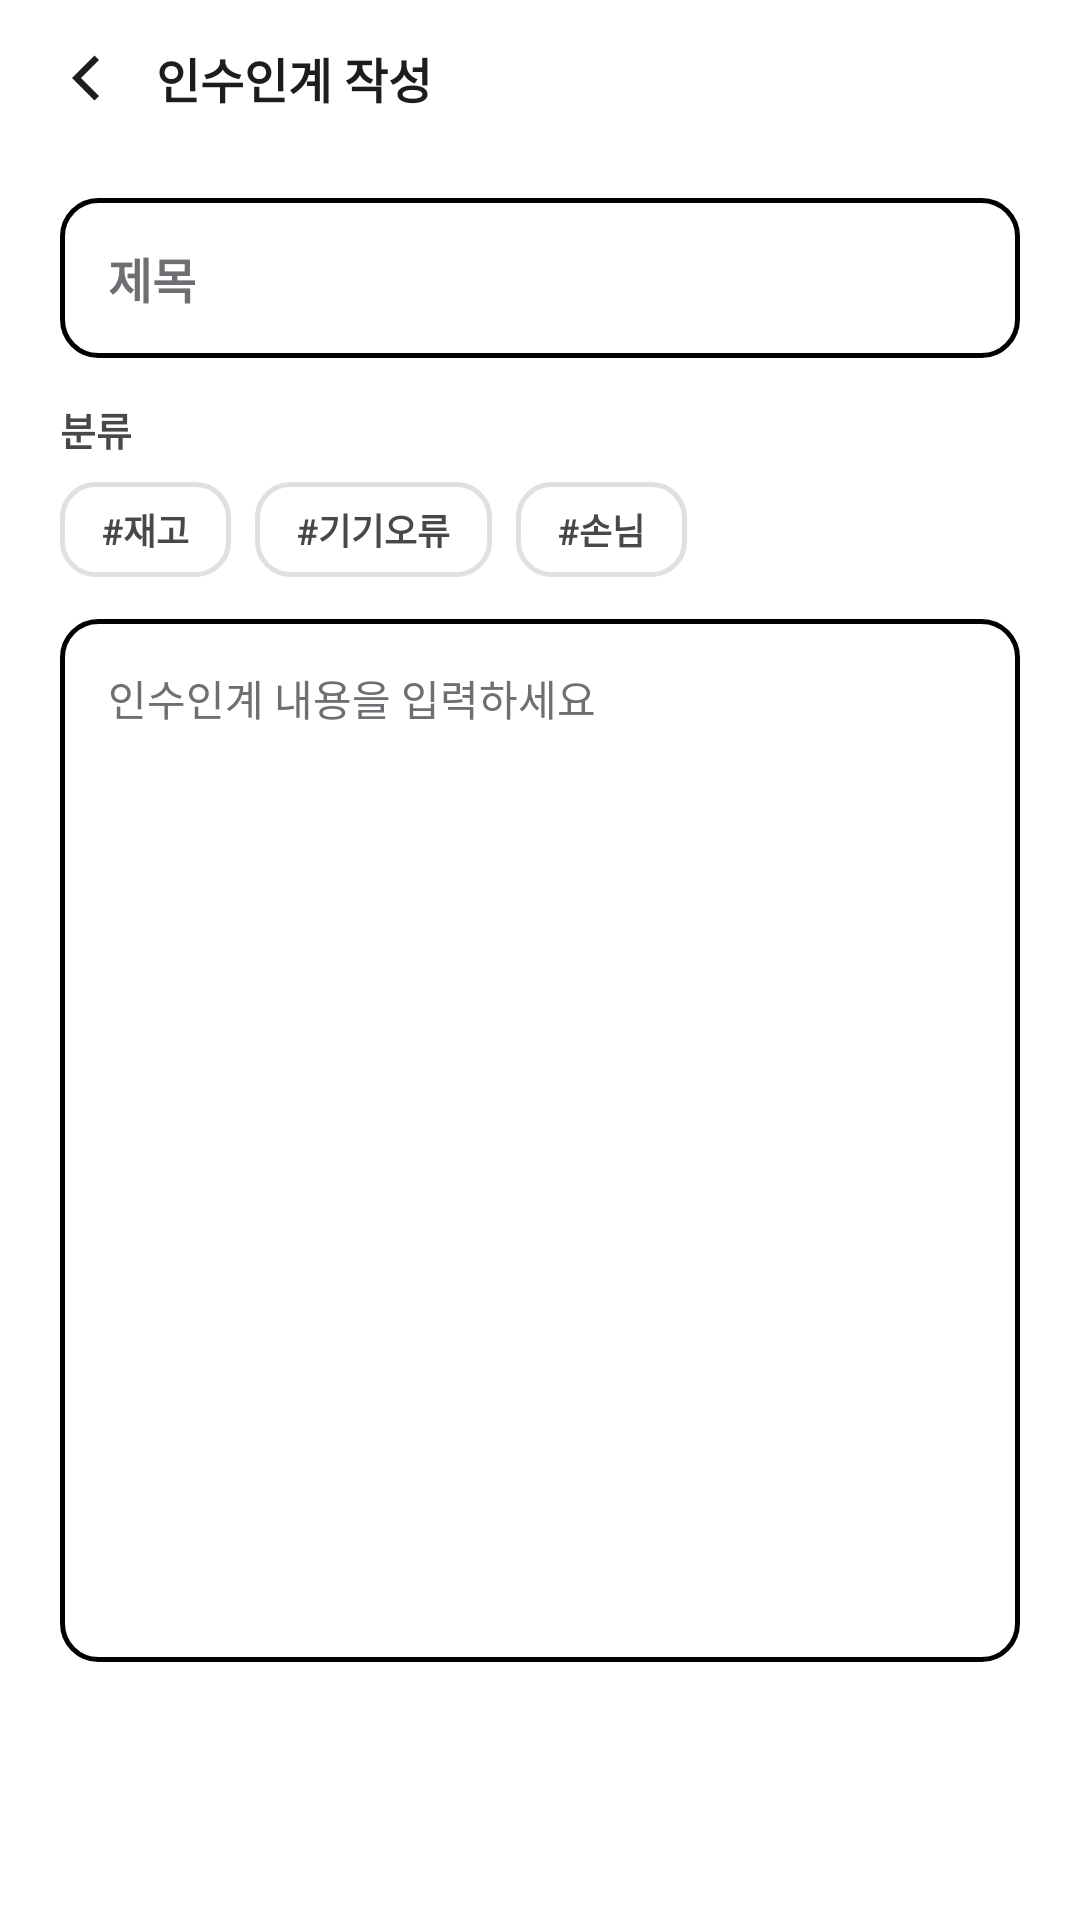

Screen size 1080×1920. Icon name, then its center in pixels as point (x, y):
뒤로: point (85, 78)
